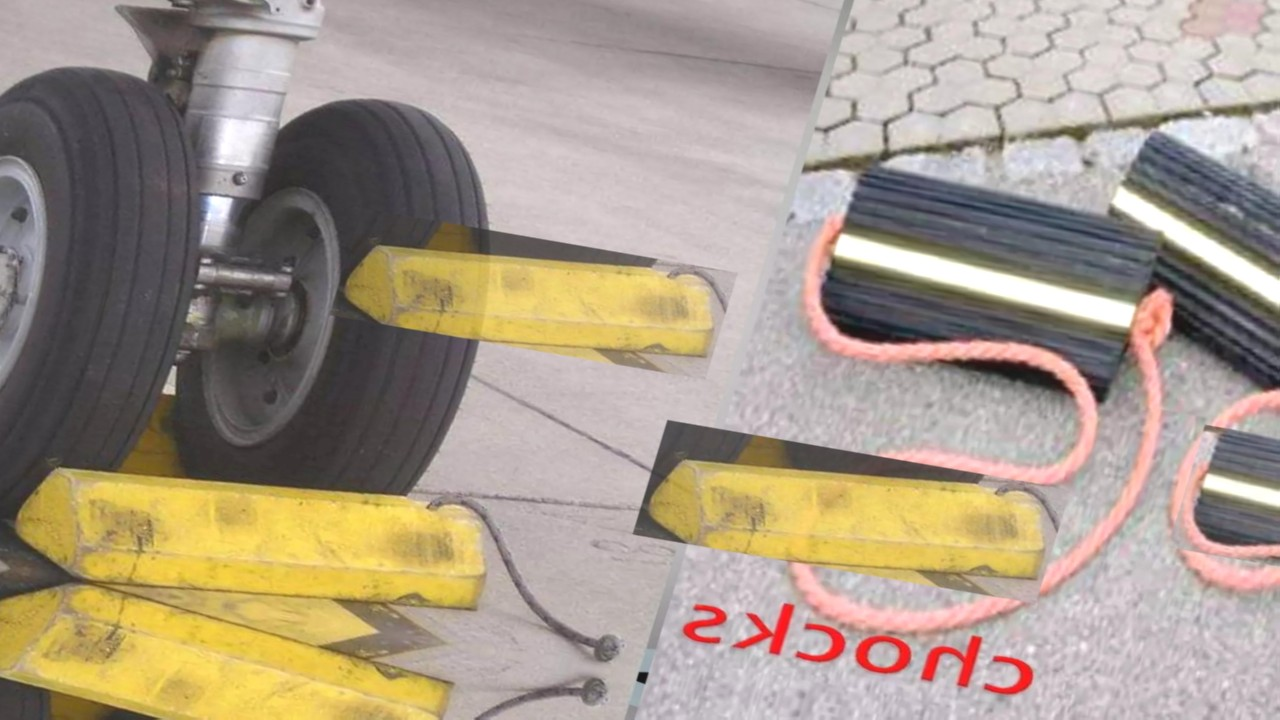chock: (0, 421, 518, 640), (782, 160, 1176, 404), (634, 421, 1072, 605), (331, 209, 739, 380), (0, 576, 471, 720), (1058, 124, 1280, 407), (1169, 426, 1280, 586)
wheel: (150, 81, 550, 525), (0, 50, 253, 541)
